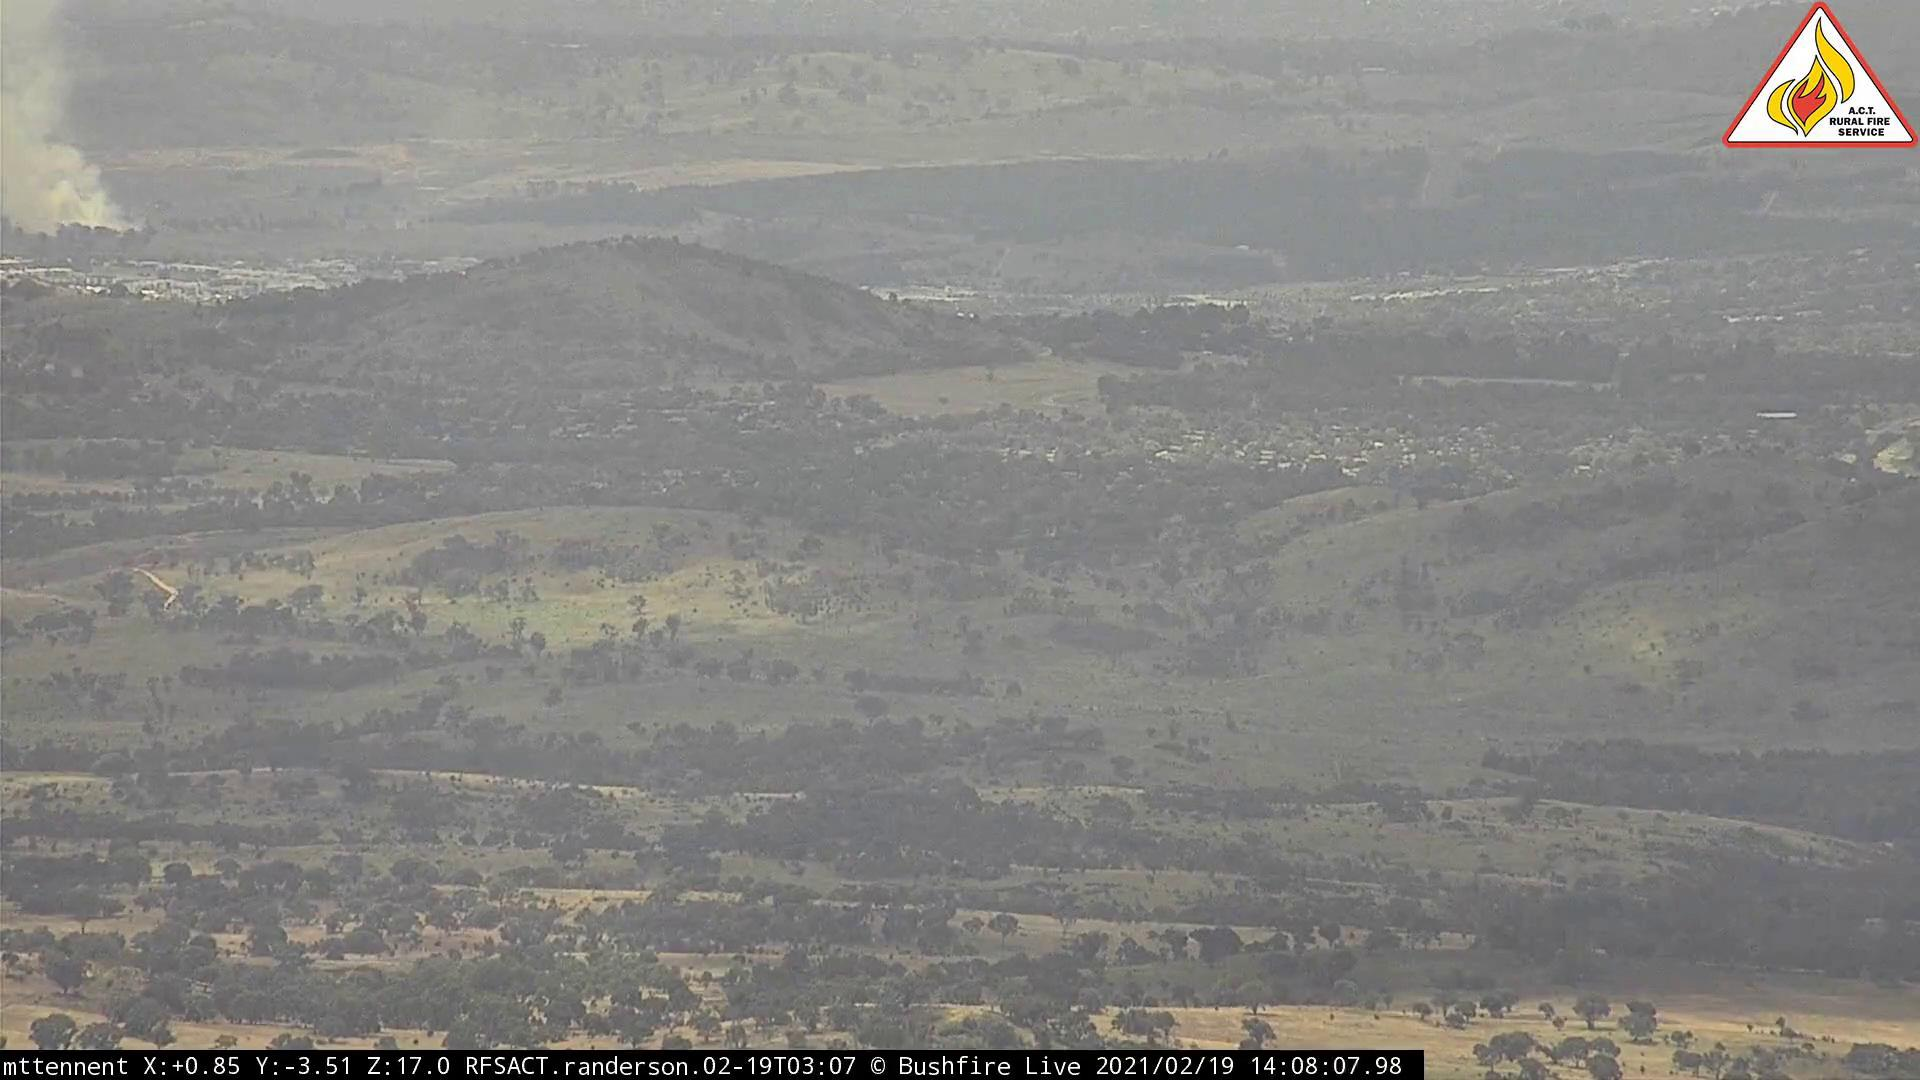Smoke: (3, 3, 154, 252)
